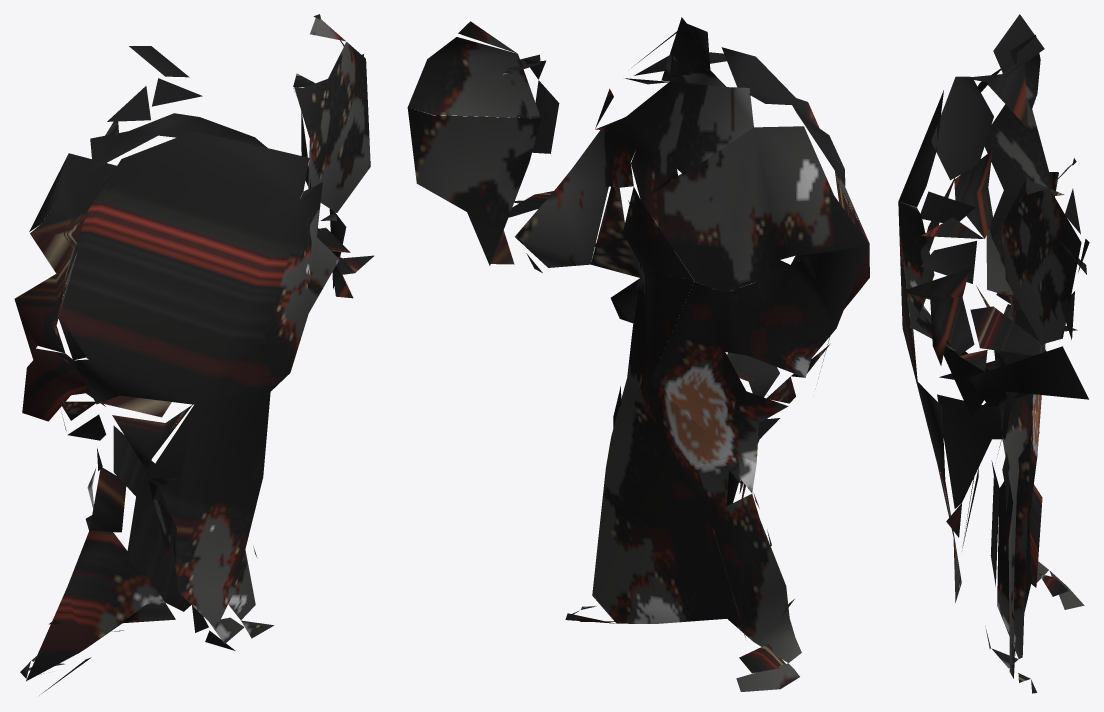
3 views of the same model, side by side, from view 1: azimuth 30°, elevation 25°; view 2: azimuth 150°, elevation 25°; view 3: azimuth 270°, elevation 25° (orthographic). The views are drawn at different scales.
Parts seen in each view (by area): view 1: body.002; view 2: body.002; view 3: body.002.
Boxes of the visible parts, bbox=[...] form: body.002: bbox=[14, 14, 374, 695]; body.002: bbox=[407, 17, 869, 691]; body.002: bbox=[898, 14, 1089, 693].
Size of the model in its own units: 1.34 by 2.03 by 0.5595.
Materials: 1 (1 with a texture image).
